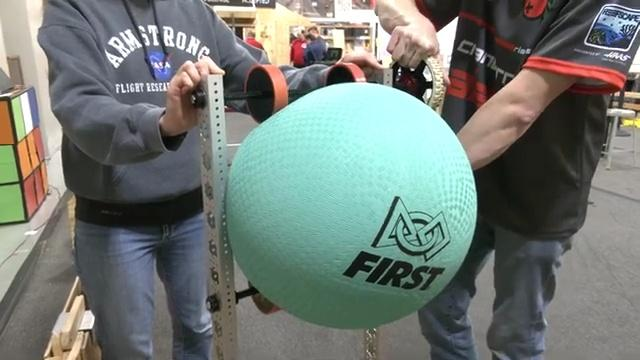ALGAE: (224, 80, 479, 329)
